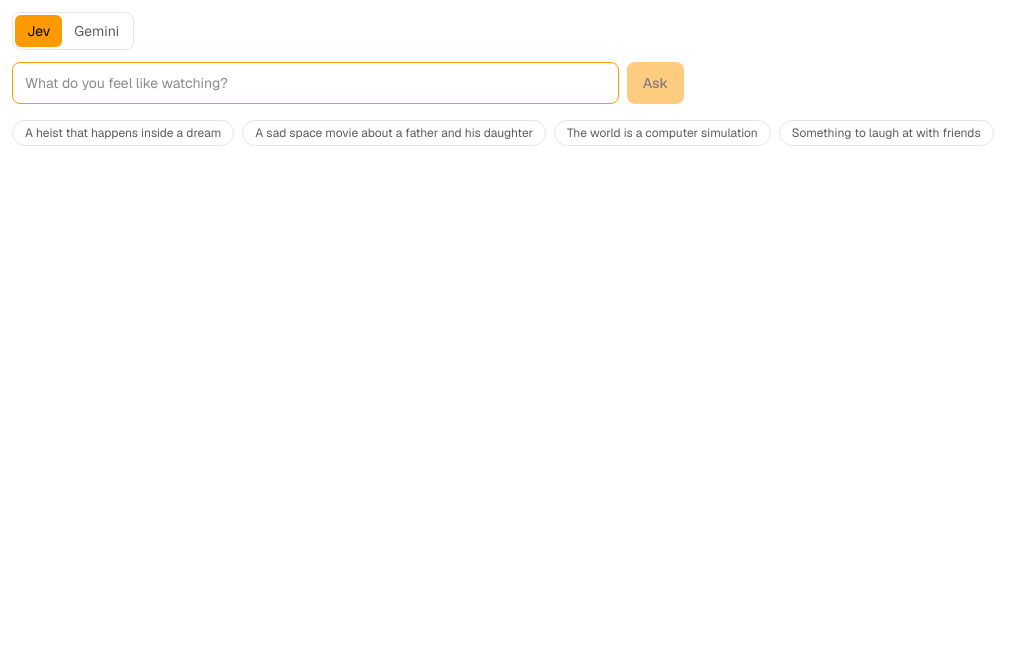
AskAdvisor › shows a reason under a card that has one and nothing under a card that has none
Type "a lonely robot" into the field named "Your question". click: (315, 83)
box: [12, 62, 619, 104]
Then press Enter
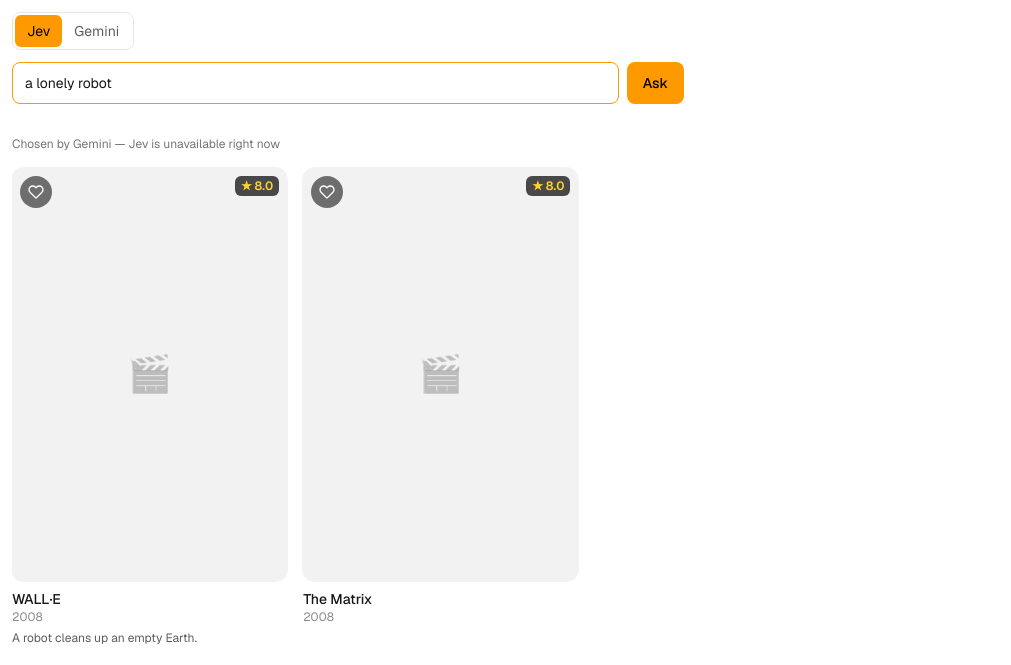
Now the list item "🎬 ★ 8.0 WALL·E 2008 A robot cleans up an empty Earth." is shown, box [12, 168, 287, 648]
